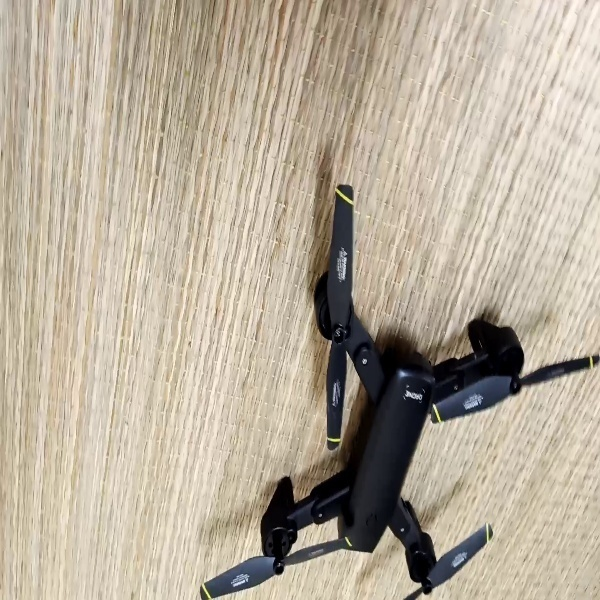drone: (184, 176, 600, 598)
